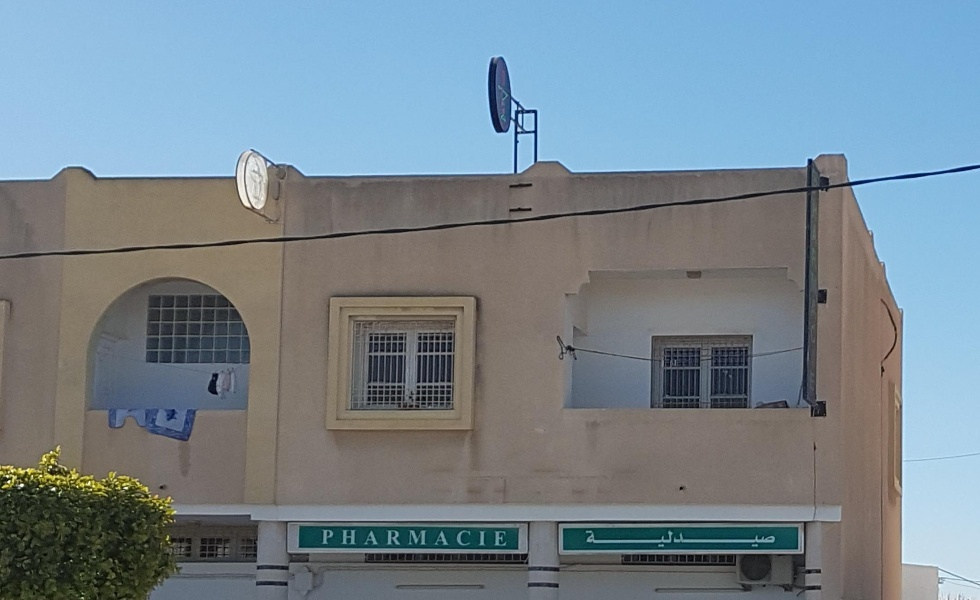text: (811, 167, 816, 393), (817, 167, 820, 393), (337, 529, 352, 547), (353, 529, 368, 547), (369, 529, 384, 547), (385, 529, 400, 547), (401, 529, 416, 547), (417, 529, 432, 547), (433, 529, 448, 547), (449, 529, 464, 547), (465, 529, 480, 547), (481, 529, 496, 547), (593, 529, 608, 547), (609, 529, 624, 547), (625, 529, 640, 547), (641, 529, 656, 547), (657, 529, 672, 547), (673, 529, 688, 547), (689, 529, 704, 547), (705, 529, 720, 547), (721, 529, 736, 547), (737, 529, 752, 547), (753, 529, 768, 547), (323, 529, 336, 547), (497, 529, 507, 547), (769, 529, 777, 547), (586, 529, 592, 547)
